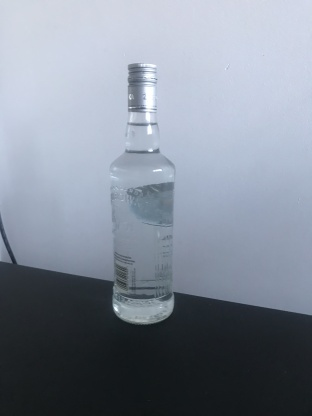nakretka: (126, 60, 158, 112)
